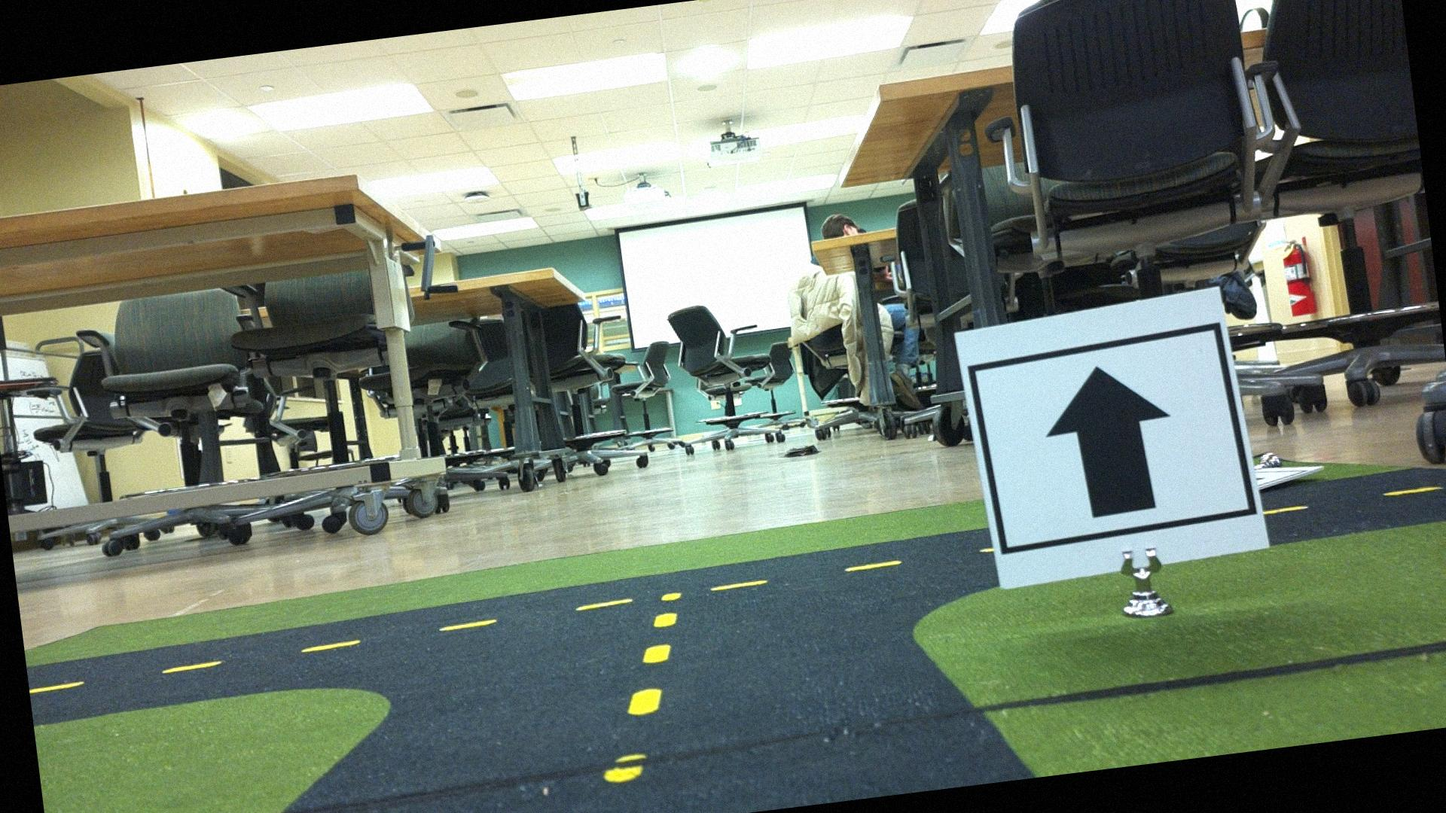gostraight: (968, 303, 1246, 569)
yellowline: (26, 614, 495, 693), (593, 591, 700, 784), (711, 557, 900, 595)
